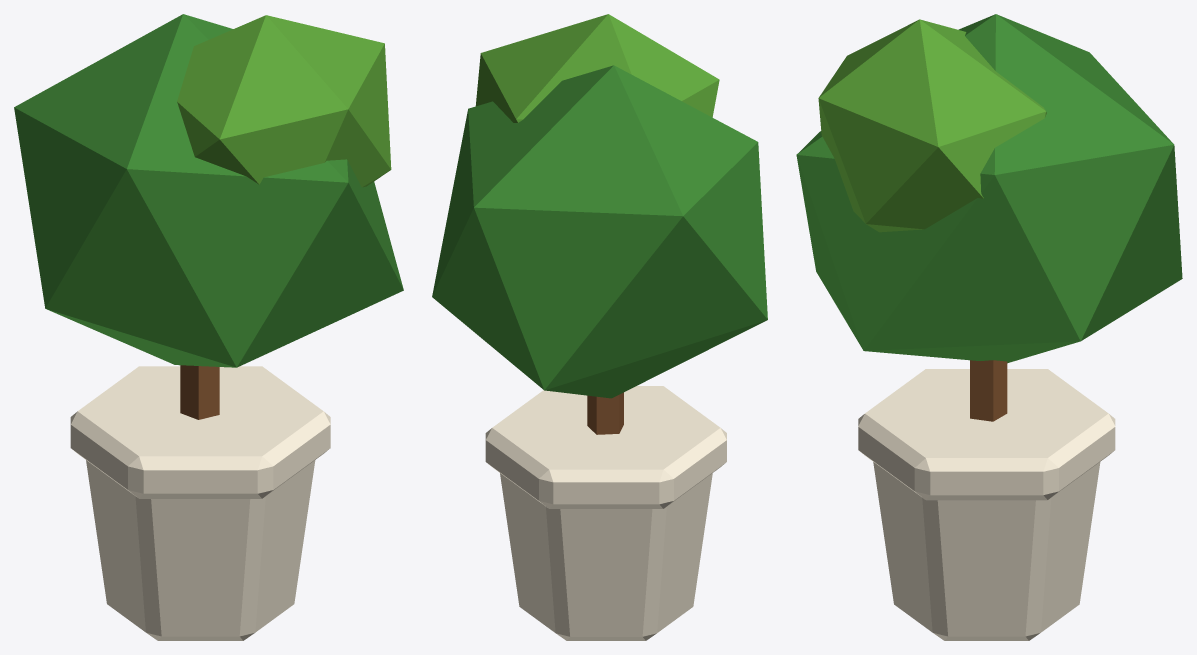
The model's file is plant_topiary.glb.
3 views of the same model, side by side, from view 1: azimuth 30°, elevation 25°; view 2: azimuth 150°, elevation 25°; view 3: azimuth 270°, elevation 25° (orthographic). The views are drawn at different scales.
Visible parts, largest first — view 1: plant_topiary; view 2: plant_topiary; view 3: plant_topiary.
Boxes of the visible parts, x1,y1,x2,y2 form: plant_topiary: [14, 14, 403, 640]; plant_topiary: [432, 14, 767, 640]; plant_topiary: [796, 14, 1182, 640].
Size of the model in its own units: 0.3595 by 0.6475 by 0.374.
